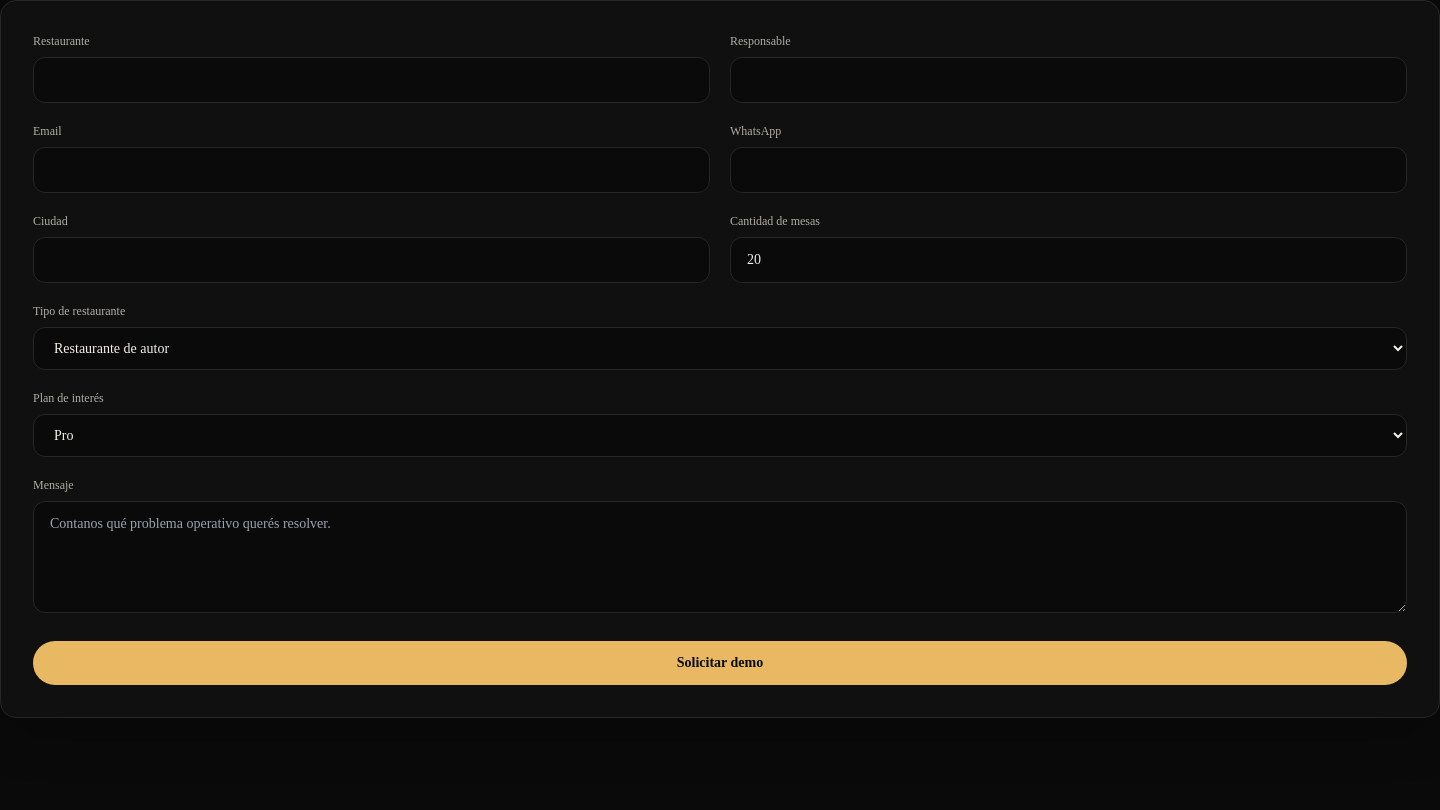
DemoLeadForm › muestra mensaje de éxito tras envío exitoso
This screenshot has width=1440, height=810.
What coordinates should you click on to do the following:
click the button "Solicitar demo"
I would click on:
 (720, 663)
Its box is [33,641,1407,685].
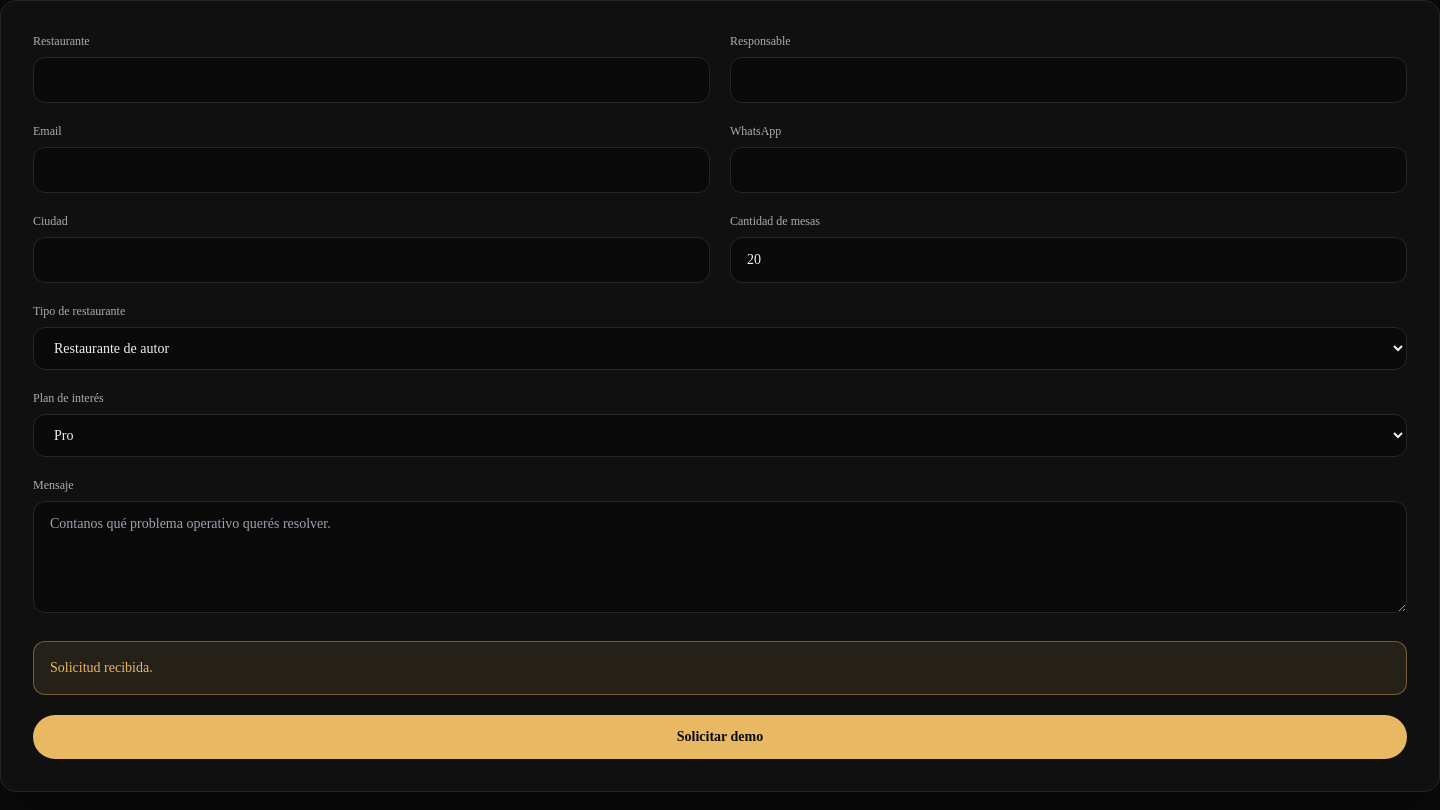
Check: the text "Solicitud recibida." is shown, box [33,641,1407,695]
